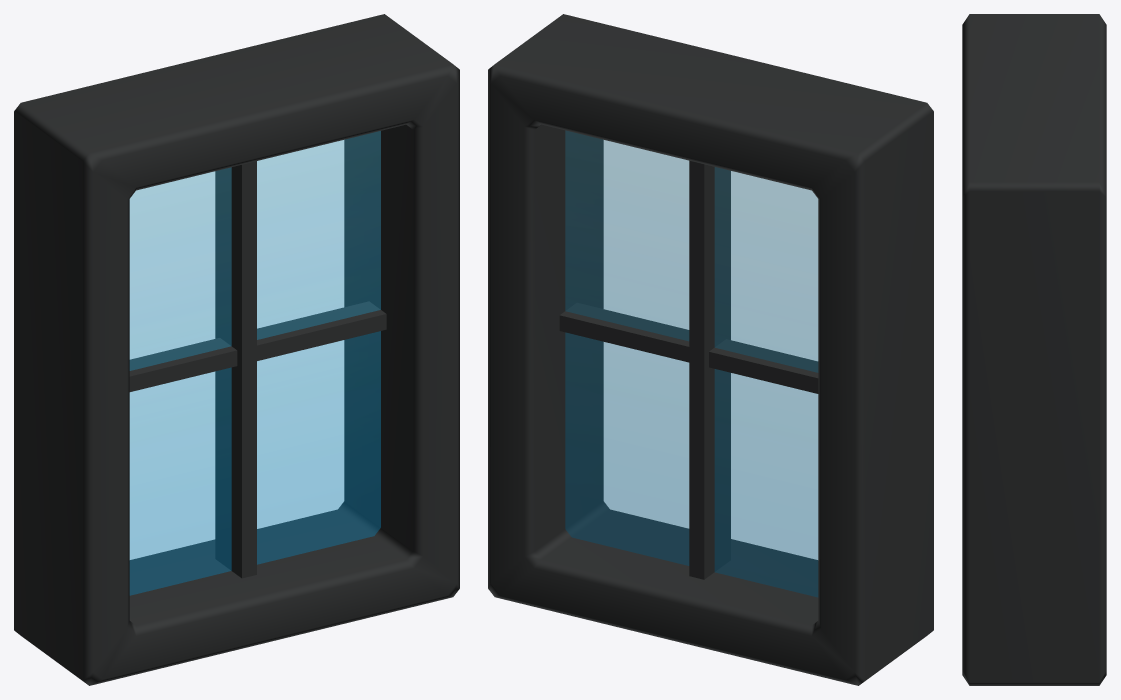
The model's file is Window_Black_09.glb.
The picture shows the model from 3 angles, left to right: view 1: azimuth 30°, elevation 25°; view 2: azimuth 150°, elevation 25°; view 3: azimuth 270°, elevation 25°; orthographic projection. The views are drawn at different scales.
Parts seen in each view (by area): view 1: Window_Black_09; view 2: Window_Black_09; view 3: Window_Black_09.
Part boxes in pixels (x1,y1,x2,y2): Window_Black_09: [14, 14, 459, 685]; Window_Black_09: [488, 14, 933, 685]; Window_Black_09: [962, 14, 1106, 685].
Bounding box in the file's own units: 1.14 × 1.54 × 0.4.
2 materials, 2 textured.
